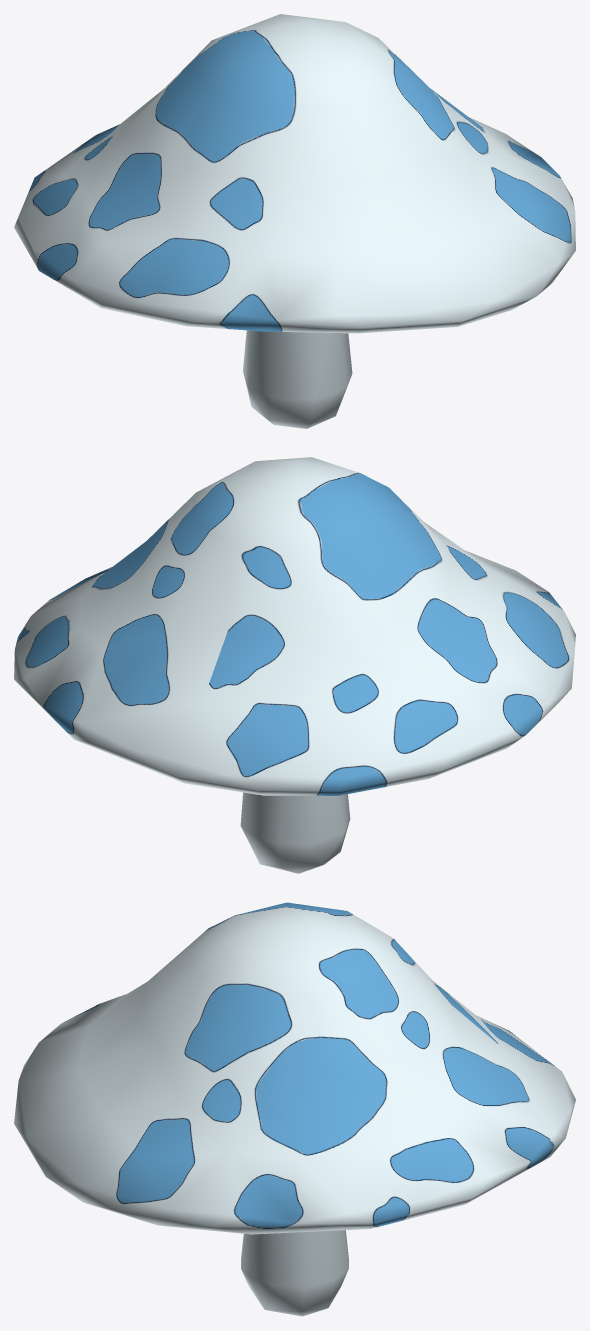
Rendered from Leonard_lowpoly.fbx.
3 views of the same model, one above another, from view 1: azimuth 30°, elevation 25°; view 2: azimuth 150°, elevation 25°; view 3: azimuth 270°, elevation 25° (orthographic).
Visible parts, largest first — view 1: Leonard; view 2: Leonard; view 3: Leonard.
Boxes of the visible parts, x1,y1,x2,y2 form: Leonard: (14,14,575,428); Leonard: (14,457,575,873); Leonard: (14,902,575,1316).
Bounding box in the file's own units: 17.54 × 13.45 × 17.51.
1 material, 1 textured.
